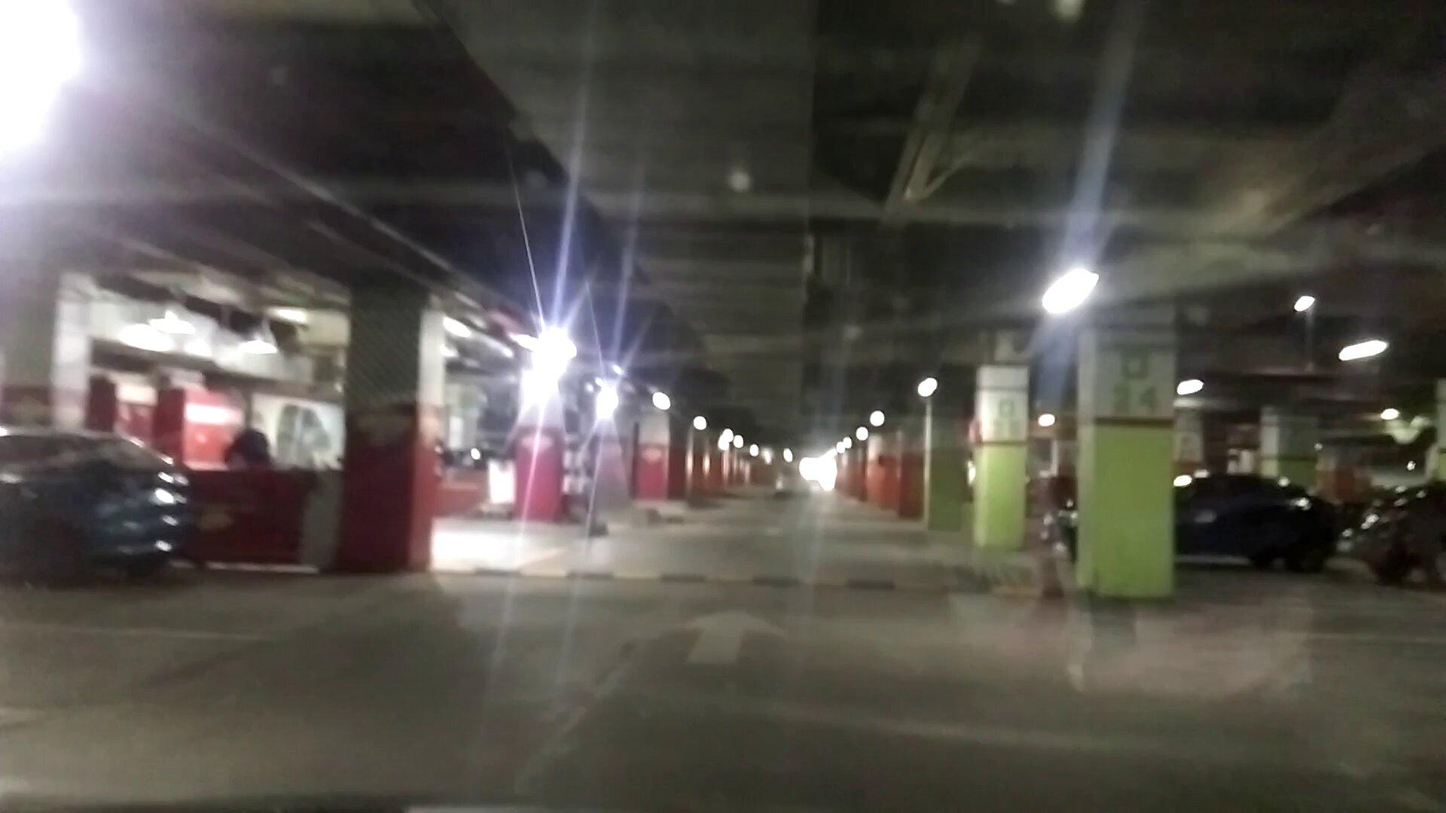Bump: (420, 546, 1101, 619)
